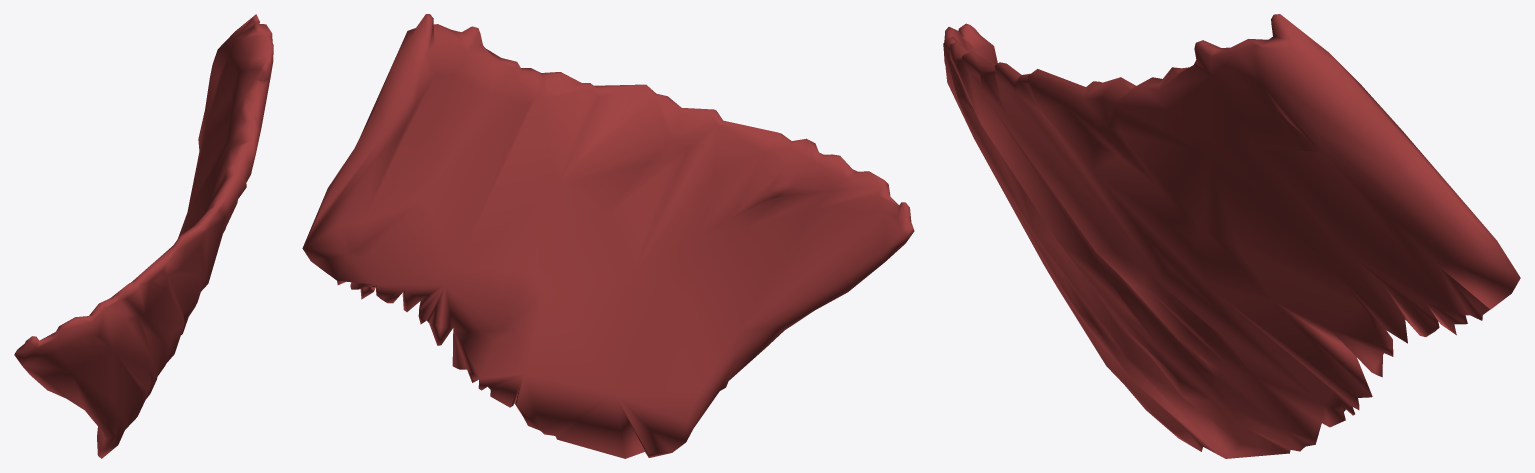
Rendered from depressor-labii-inferioris-l.glb.
3 views of the same model, side by side, from view 1: azimuth 30°, elevation 25°; view 2: azimuth 150°, elevation 25°; view 3: azimuth 270°, elevation 25° (orthographic). The views are drawn at different scales.
Visible parts, largest first — view 1: Depressor labii inferioris.l; view 2: Depressor labii inferioris.l; view 3: Depressor labii inferioris.l.
Boxes of the visible parts, x1,y1,x2,y2 form: Depressor labii inferioris.l: (14, 14, 273, 458); Depressor labii inferioris.l: (302, 14, 914, 458); Depressor labii inferioris.l: (943, 14, 1520, 458).
Bounding box in the file's own units: 0.0306 × 0.0295 × 0.0273.
